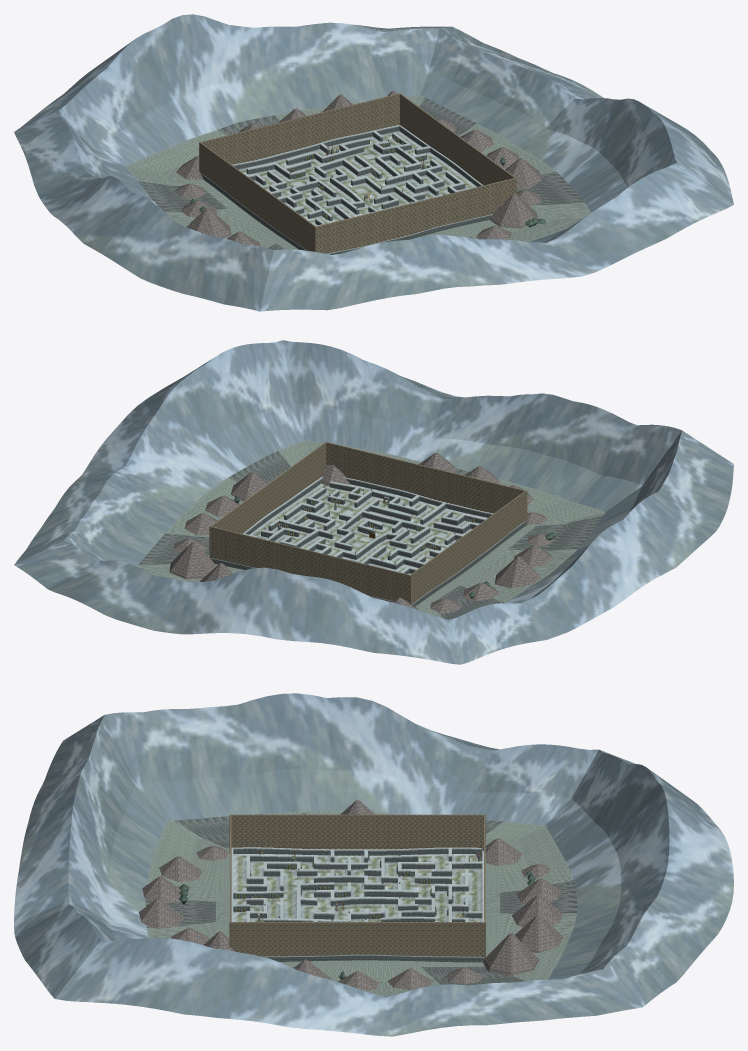
File: Cairnwatch.fbx
The picture shows the model from 3 angles, top to bottom: view 1: azimuth 30°, elevation 25°; view 2: azimuth 150°, elevation 25°; view 3: azimuth 270°, elevation 25°; orthographic projection. The views are drawn at different scales.
Parts seen in each view (by area): view 1: Surroundings, C_Solids, Rim, Horizon, Terrain, Set; view 2: Surroundings, C_Solids, Rim, Horizon, Terrain, Set; view 3: Surroundings, C_Solids, Rim, Horizon, Terrain, Set.
Part boxes in pixels (bbox=[...]): Surroundings: bbox=[14, 14, 733, 311]; C_Solids: bbox=[199, 93, 516, 253]; Rim: bbox=[200, 125, 492, 254]; Horizon: bbox=[174, 91, 541, 246]; Terrain: bbox=[238, 131, 476, 225]; Set: bbox=[273, 135, 444, 224]; Surroundings: bbox=[14, 340, 733, 664]; C_Solids: bbox=[209, 441, 527, 604]; Rim: bbox=[211, 477, 526, 606]; Horizon: bbox=[169, 453, 553, 613]; Terrain: bbox=[249, 483, 487, 574]; Set: bbox=[268, 483, 474, 569]; Surroundings: bbox=[14, 693, 733, 1036]; C_Solids: bbox=[229, 814, 485, 959]; Rim: bbox=[231, 847, 483, 962]; Horizon: bbox=[139, 800, 563, 991]; Terrain: bbox=[233, 854, 482, 921]; Set: bbox=[234, 844, 482, 921].
Size of the model in its own units: 34560 by 5600 by 34238.
